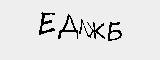Б: (106, 18, 123, 44)
Д: (59, 15, 79, 39)
Е: (37, 10, 59, 39)
Ж: (86, 20, 106, 44)
Л: (77, 16, 89, 39)
